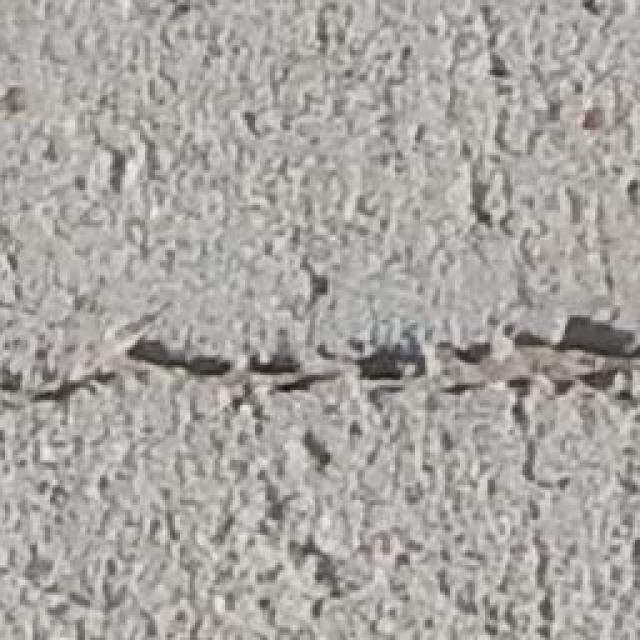concrete-crack: (0, 309, 638, 415), (498, 374, 564, 640)
